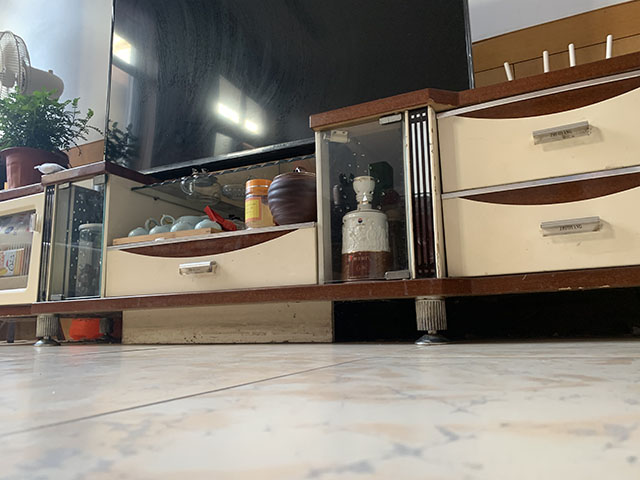cabinet: (1, 52, 640, 347)
